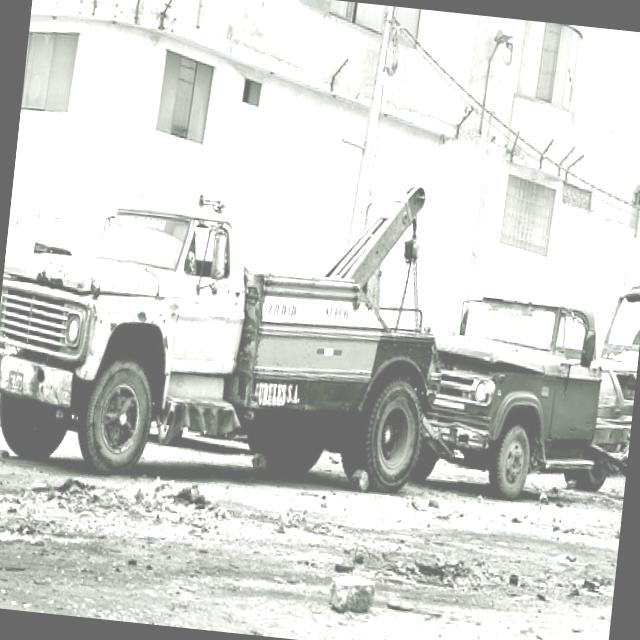Vehicle: (0, 136, 454, 499), (0, 136, 453, 493), (402, 281, 640, 511), (589, 263, 640, 436), (595, 273, 640, 415)
